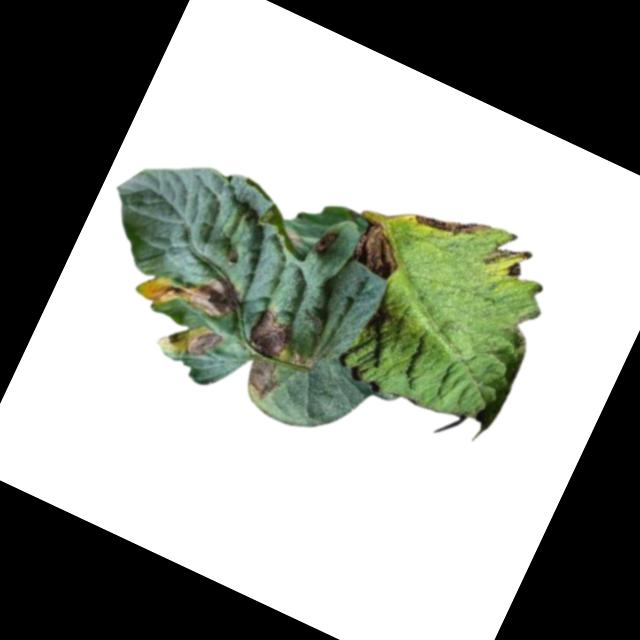Early_blight: (136, 247, 246, 337), (412, 193, 492, 254), (348, 217, 411, 281), (244, 304, 299, 362), (236, 353, 287, 409), (179, 322, 224, 367), (306, 224, 340, 264), (501, 259, 525, 283)
